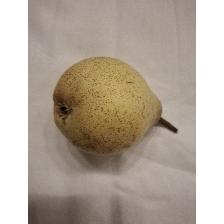Birne: (49, 52, 180, 158)
